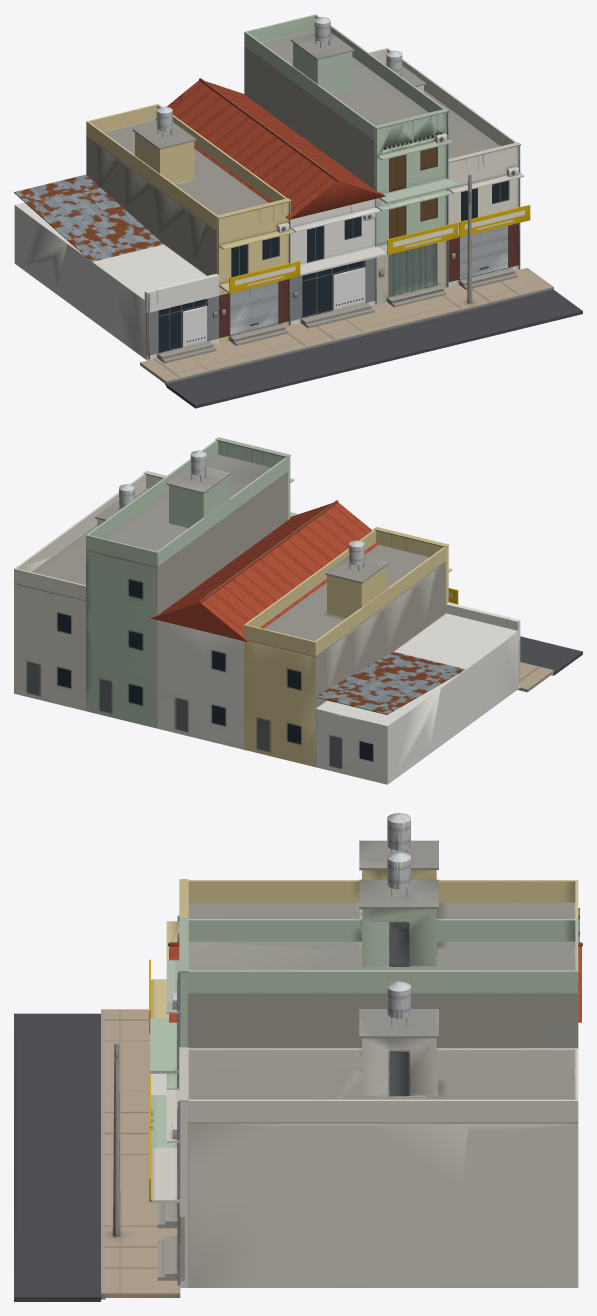
The model's file is day_pho_vung_tau.mid.glb.
The picture shows the model from 3 angles, top to bottom: view 1: azimuth 30°, elevation 25°; view 2: azimuth 150°, elevation 25°; view 3: azimuth 270°, elevation 25°; orthographic projection. The views are drawn at different scales.
Visible parts, largest first — view 1: day_pho_vung_tau; view 2: day_pho_vung_tau; view 3: day_pho_vung_tau.
Boxes of the visible parts, left/top/right/bottom form: day_pho_vung_tau: left=14, top=14, right=582, bottom=408; day_pho_vung_tau: left=14, top=437, right=582, bottom=784; day_pho_vung_tau: left=14, top=813, right=582, bottom=1301.
Size of the model in its own units: 27 by 15.59 by 22.87.
16 materials, 16 textured.
